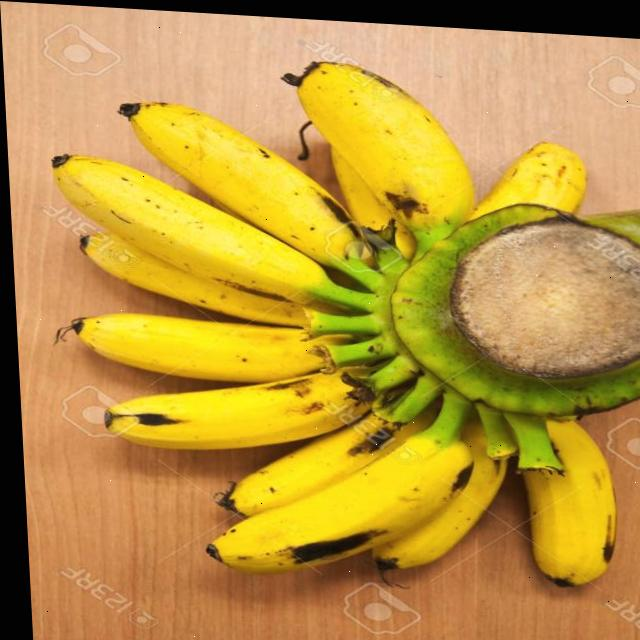banana: (32, 39, 640, 605)
